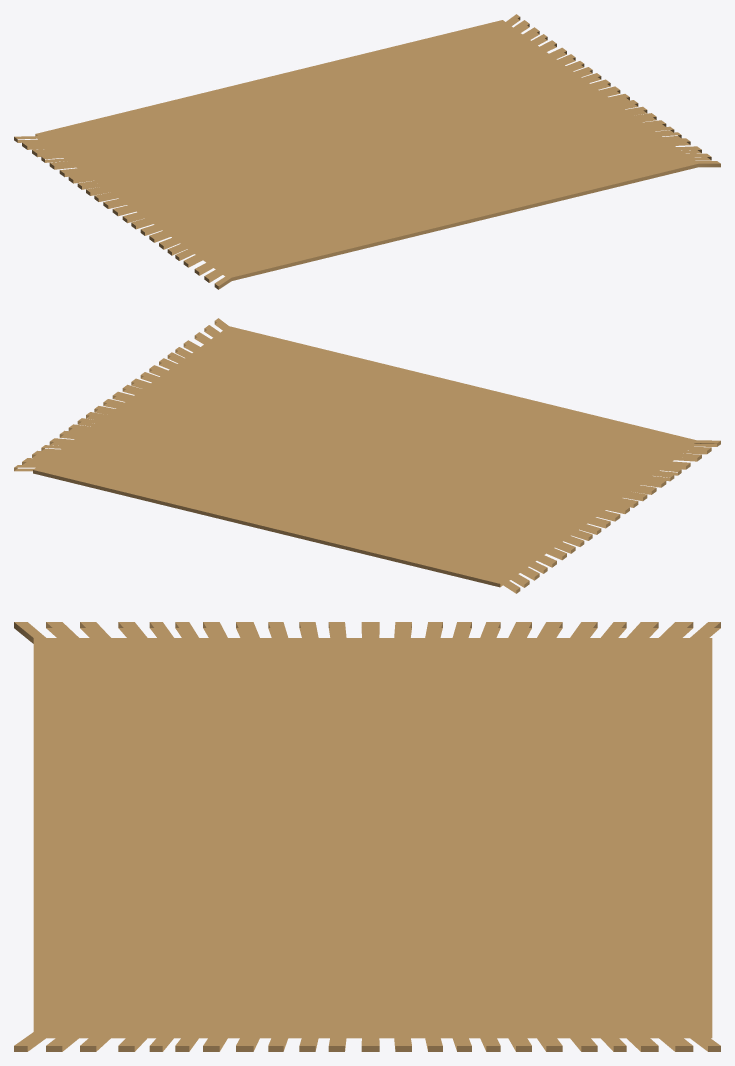
File: std_piltover_carpet.fbx
3 views of the same model, one above another, from view 1: azimuth 30°, elevation 25°; view 2: azimuth 150°, elevation 25°; view 3: azimuth 270°, elevation 25° (orthographic). The views are drawn at different scales.
Parts seen in each view (by area): view 1: main_base_carpet; view 2: main_base_carpet; view 3: main_base_carpet.
Part boxes in pixels (left/top/right/bottom): main_base_carpet: left=14, top=14, right=720, bottom=289; main_base_carpet: left=14, top=318, right=720, bottom=593; main_base_carpet: left=14, top=622, right=720, bottom=1051.
Size of the model in its own units: 5.28 by 0.0357 by 3.72.
